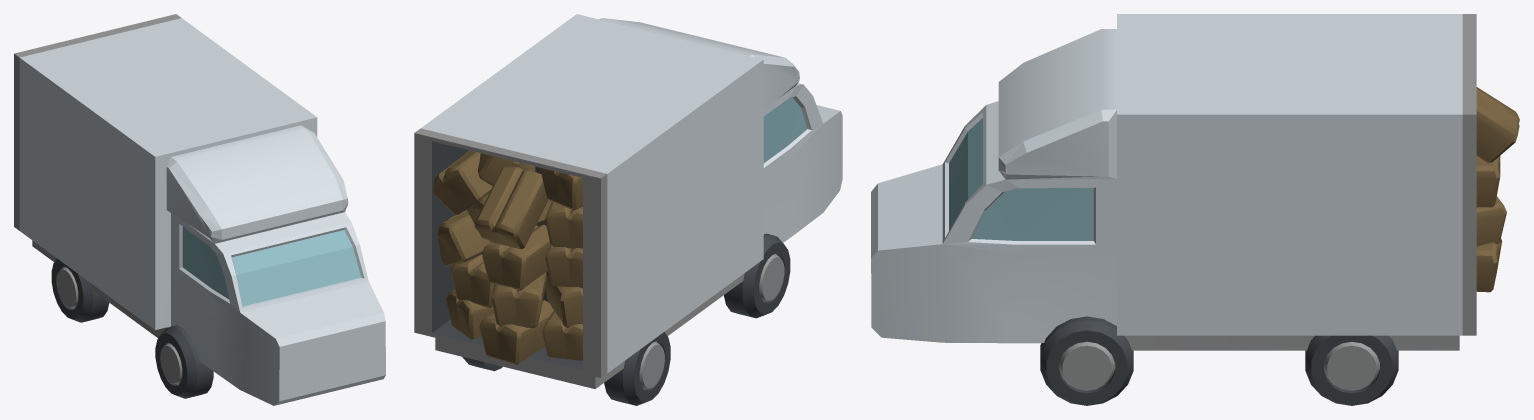
Rendered from Breavan.FBX.
The picture shows the model from 3 angles, left to right: view 1: azimuth 30°, elevation 25°; view 2: azimuth 150°, elevation 25°; view 3: azimuth 270°, elevation 25°; orthographic projection. The views are drawn at different scales.
Parts seen in each view (by area): view 1: Box004; view 2: Box004; view 3: Box004.
Part boxes in pixels (x1=…): Box004: x1=14, y1=14, x2=385, y2=405; Box004: x1=414, y1=14, x2=842, y2=405; Box004: x1=871, y1=14, x2=1519, y2=405.
Size of the model in its own units: 60.47 by 83.22 by 164.
Materials: 1 (1 with a texture image).
